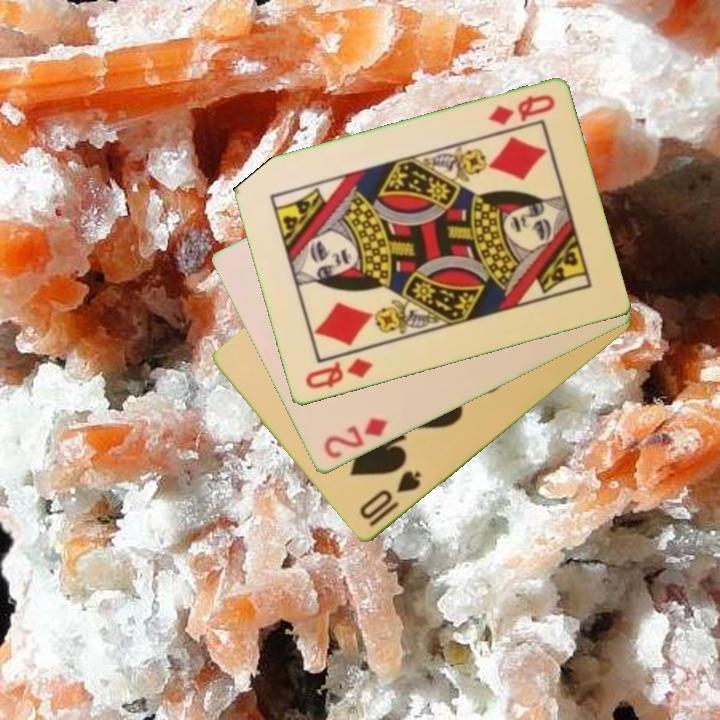10s: (355, 467, 424, 530)
2d: (320, 414, 390, 462)
Qd: (301, 354, 376, 393), (484, 91, 558, 129)
